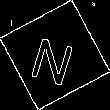N_N: (28, 25, 82, 85)
